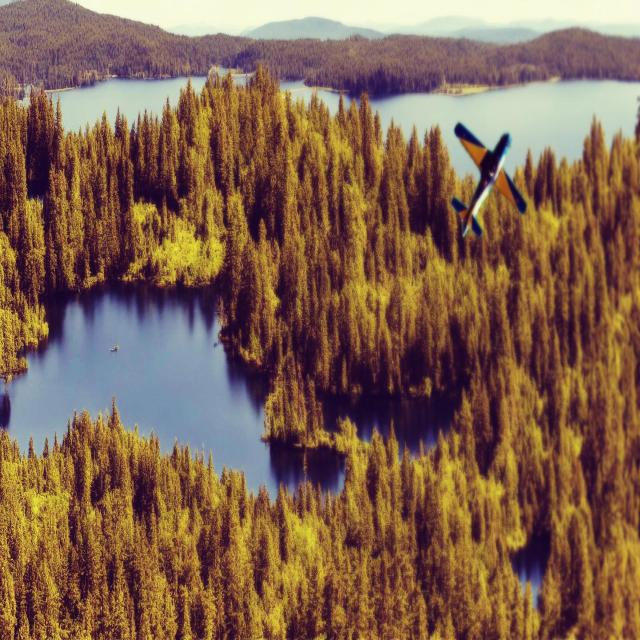airplane: (450, 121, 527, 239)
